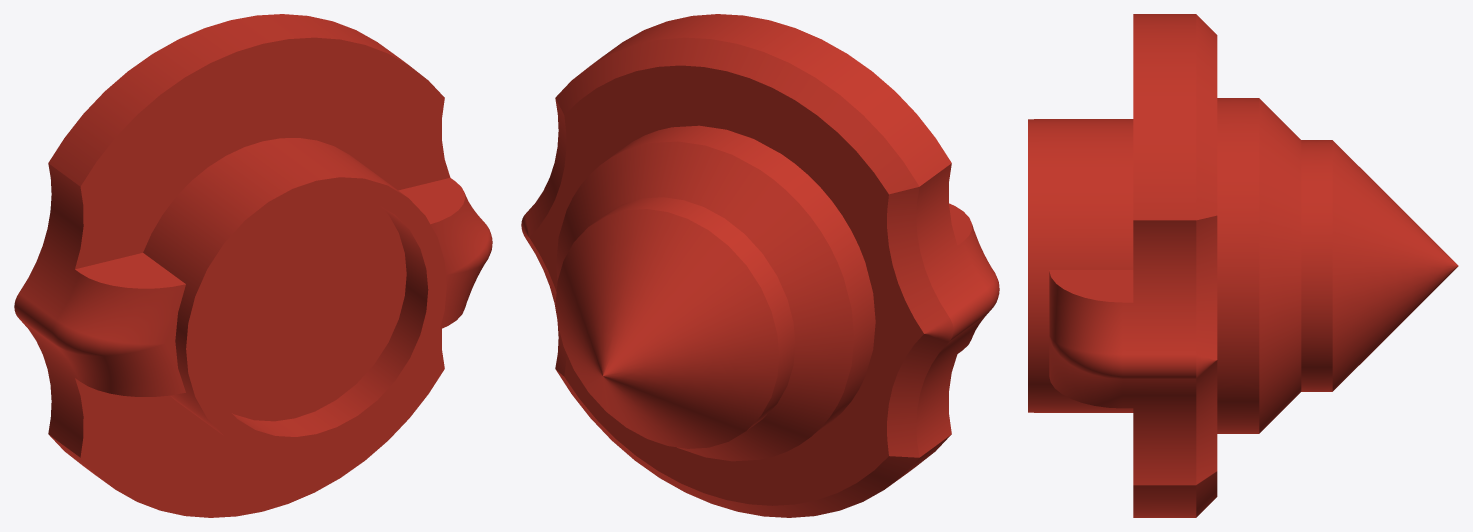
The model's file is Attack Tip.fbx.
The picture shows the model from 3 angles, left to right: view 1: azimuth 30°, elevation 25°; view 2: azimuth 150°, elevation 25°; view 3: azimuth 270°, elevation 25°; orthographic projection. The views are drawn at different scales.
Parts seen in each view (by area): view 1: Attack Tip; view 2: Attack Tip; view 3: Attack Tip.
Boxes of the visible parts, bbox=[...] form: Attack Tip: bbox=[14, 14, 492, 517]; Attack Tip: bbox=[521, 14, 999, 517]; Attack Tip: bbox=[1028, 14, 1458, 517].
Bounding box in the file's own units: 23.2 × 24 × 20.5.
